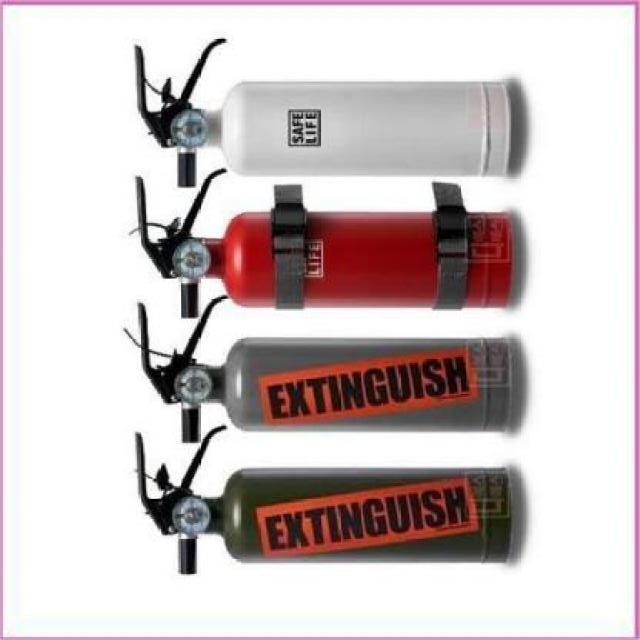fire extinguisher: (136, 422, 513, 575), (135, 168, 513, 320), (134, 37, 512, 188), (136, 294, 513, 443)
